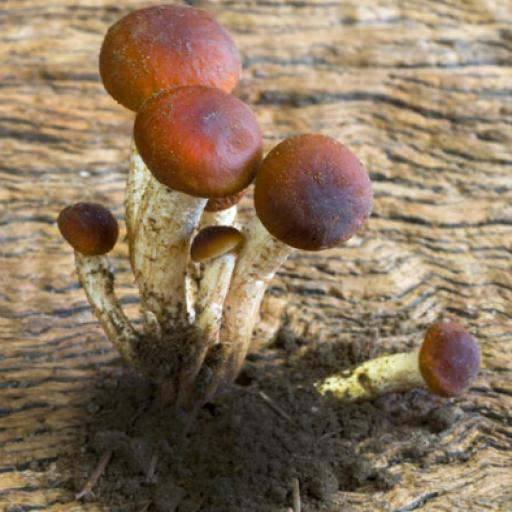Button Mushroom: (40, 4, 494, 505)
